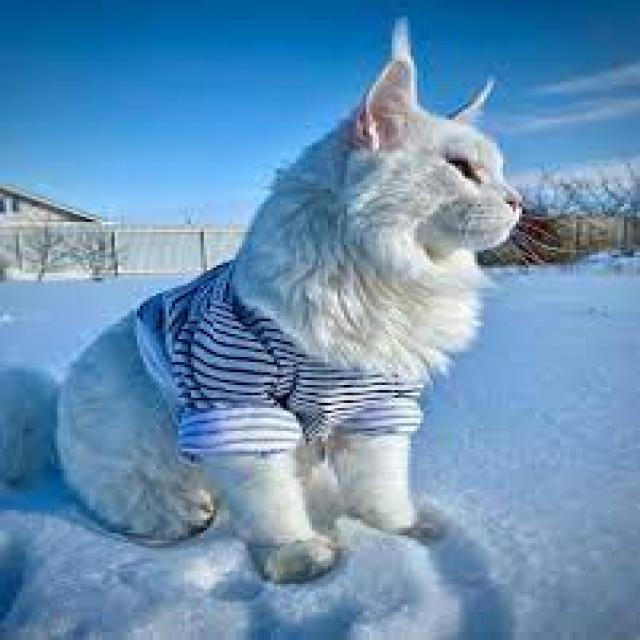cat: (150, 43, 600, 604)
